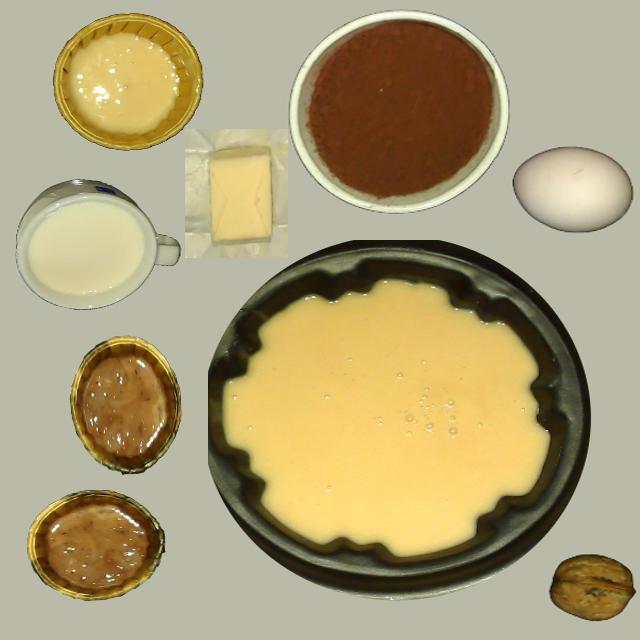Cocoa: (286, 12, 500, 215)
Milk: (26, 200, 149, 300)
Walnut: (548, 554, 634, 622)
